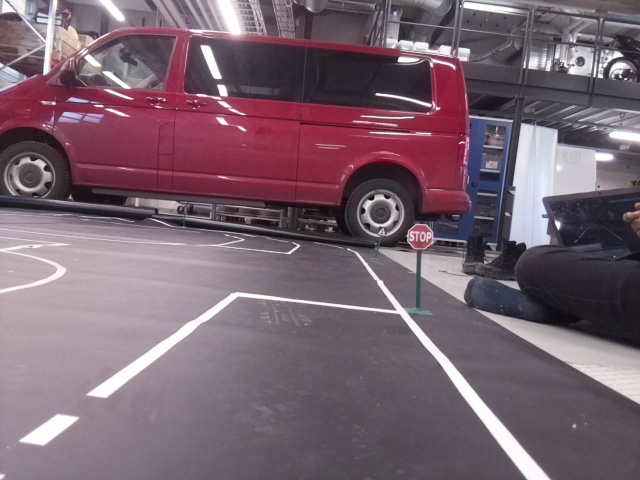Stop: (408, 224, 434, 250)
